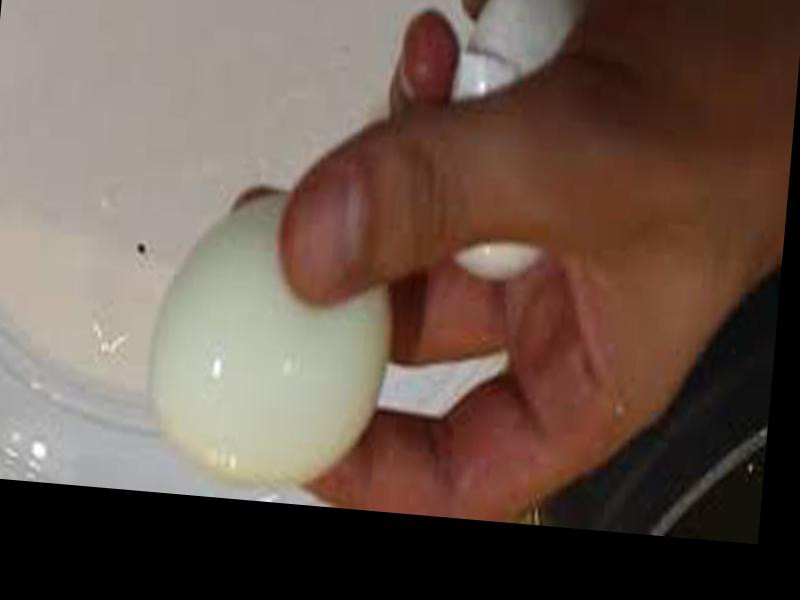Eggs: (145, 180, 402, 506)
